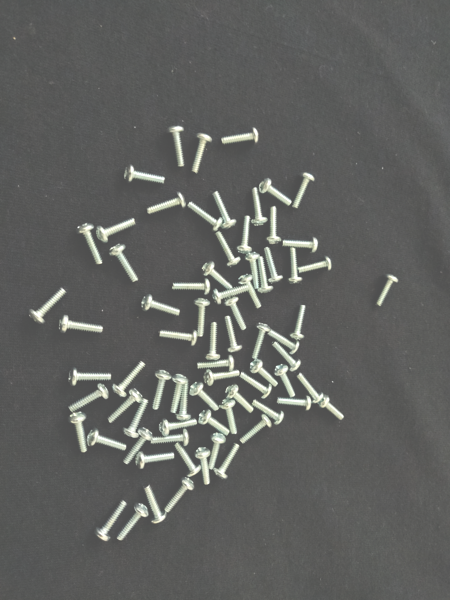shortscrew: (28, 288, 67, 326), (93, 500, 127, 543), (110, 361, 146, 398), (107, 389, 143, 424), (117, 503, 149, 542), (68, 383, 109, 413), (108, 243, 138, 283), (76, 223, 103, 266), (186, 201, 223, 232), (123, 428, 153, 466), (165, 477, 195, 514), (95, 217, 136, 244), (173, 442, 202, 479), (146, 190, 187, 216), (240, 414, 274, 445), (214, 443, 241, 481), (144, 484, 168, 525), (173, 442, 201, 477), (123, 399, 148, 438), (214, 232, 241, 268), (189, 132, 212, 174), (190, 381, 221, 412), (212, 190, 236, 230), (260, 178, 293, 207), (240, 371, 274, 399), (267, 329, 302, 356), (164, 125, 186, 167), (201, 262, 234, 290), (140, 294, 180, 317), (196, 409, 230, 436), (224, 384, 254, 414), (238, 273, 263, 309), (296, 372, 324, 404), (87, 430, 127, 452), (273, 342, 302, 372), (150, 370, 171, 411), (58, 315, 103, 334), (67, 368, 112, 387), (293, 172, 316, 209), (253, 400, 285, 426), (168, 373, 188, 414), (225, 296, 248, 331), (158, 417, 198, 437), (123, 165, 165, 184), (250, 360, 278, 388), (376, 274, 399, 308), (135, 449, 174, 469), (68, 413, 87, 453), (208, 433, 227, 471), (212, 285, 248, 305), (220, 128, 259, 146), (265, 206, 283, 245), (193, 298, 211, 337), (265, 246, 283, 285), (176, 378, 192, 421), (297, 256, 333, 275), (202, 369, 240, 387), (225, 316, 243, 354), (203, 322, 220, 362), (159, 330, 199, 347), (319, 395, 345, 421), (170, 279, 212, 295), (252, 323, 270, 360), (220, 398, 238, 435), (151, 430, 190, 447), (257, 256, 274, 295), (252, 186, 268, 226), (237, 215, 253, 255), (290, 304, 307, 341), (197, 356, 234, 373), (282, 237, 320, 253), (287, 247, 303, 285), (196, 446, 211, 486), (246, 252, 261, 290)
